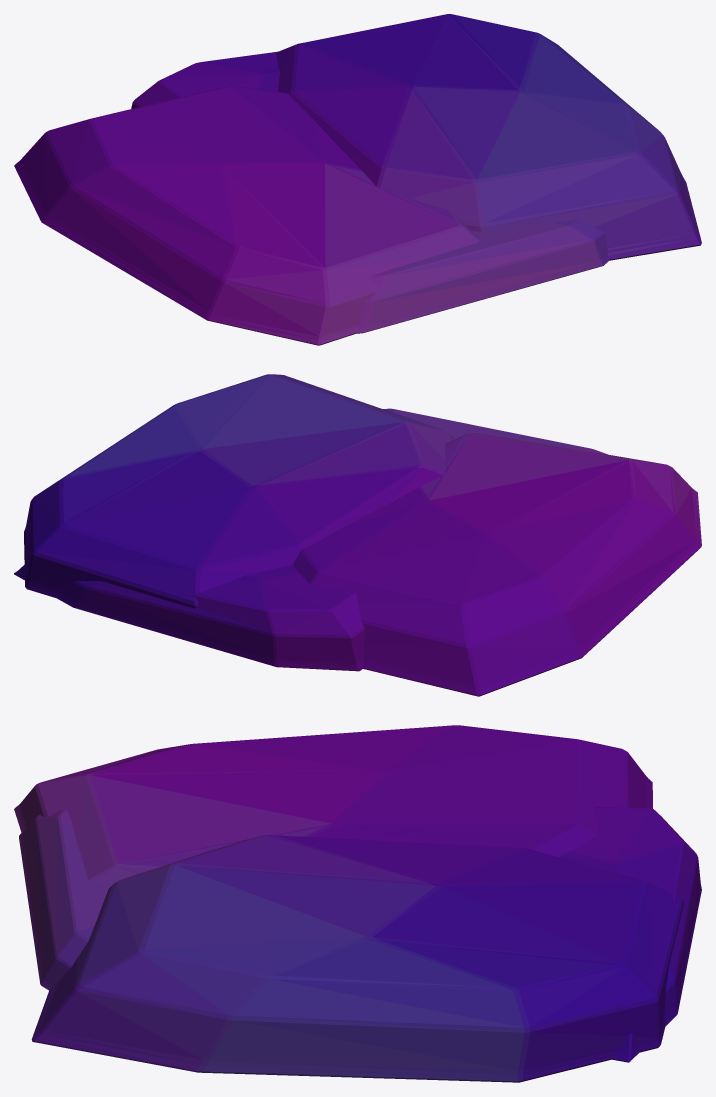
File: SM_CinderCanyon_CliffMass.fbx
The picture shows the model from 3 angles, top to bottom: view 1: azimuth 30°, elevation 25°; view 2: azimuth 150°, elevation 25°; view 3: azimuth 270°, elevation 25°; orthographic projection. The views are drawn at different scales.
Visible parts, largest first — view 1: SM_CinderCanyon_CliffMass; view 2: SM_CinderCanyon_CliffMass; view 3: SM_CinderCanyon_CliffMass.
Part boxes in pixels (x1,y1,x2,y2): SM_CinderCanyon_CliffMass: (14, 14, 701, 345); SM_CinderCanyon_CliffMass: (14, 374, 701, 696); SM_CinderCanyon_CliffMass: (14, 725, 701, 1082).
Size of the model in its own units: 100 by 90 by 12.
